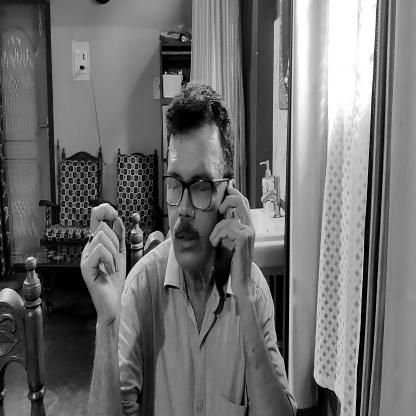Distracted: (166, 93, 229, 270)
